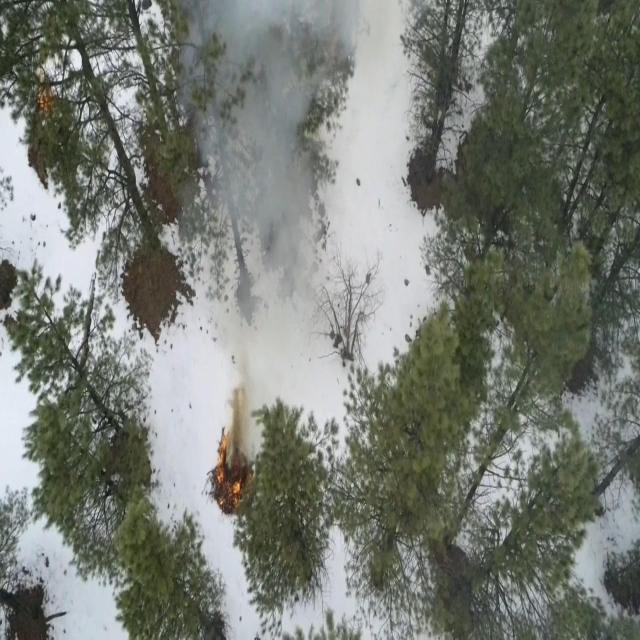Fire: (216, 440, 244, 504)
Smoke: (198, 0, 344, 432)
